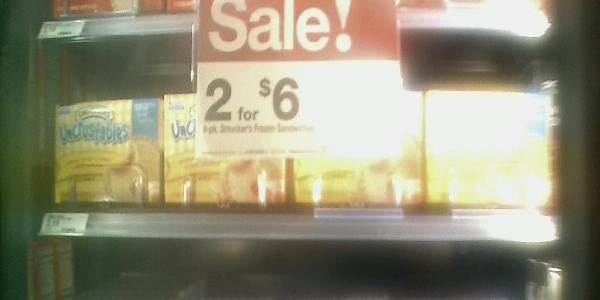icecream: (293, 89, 423, 206), (427, 91, 552, 206), (166, 94, 290, 205), (52, 100, 163, 201)
